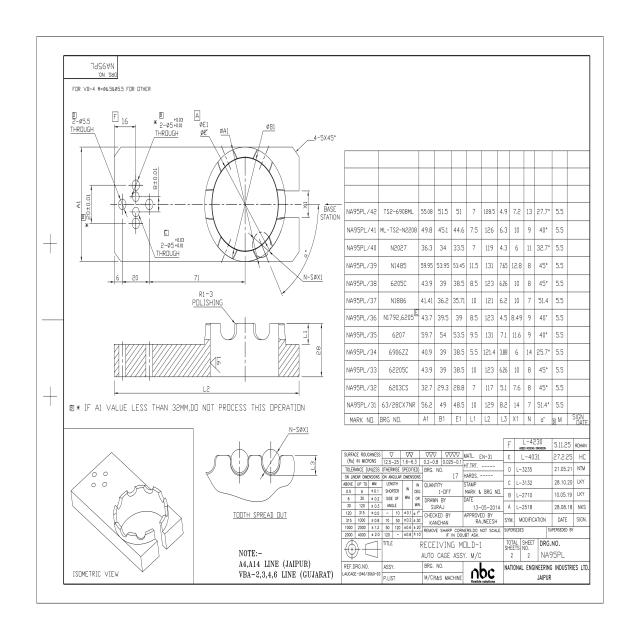dimension: (155, 116, 185, 137), (156, 237, 185, 258), (69, 116, 95, 134), (313, 132, 337, 142), (289, 425, 309, 434), (303, 273, 323, 282), (85, 193, 91, 222), (151, 167, 158, 191), (198, 288, 214, 298), (130, 272, 140, 282), (219, 126, 230, 135), (200, 128, 209, 137), (199, 120, 209, 128), (315, 344, 321, 357), (216, 356, 222, 368), (202, 384, 210, 393), (121, 116, 129, 125), (193, 272, 200, 282), (266, 123, 276, 130), (302, 329, 308, 340), (115, 272, 121, 282), (304, 249, 310, 259), (302, 199, 308, 209), (75, 200, 81, 210), (310, 459, 315, 469)
